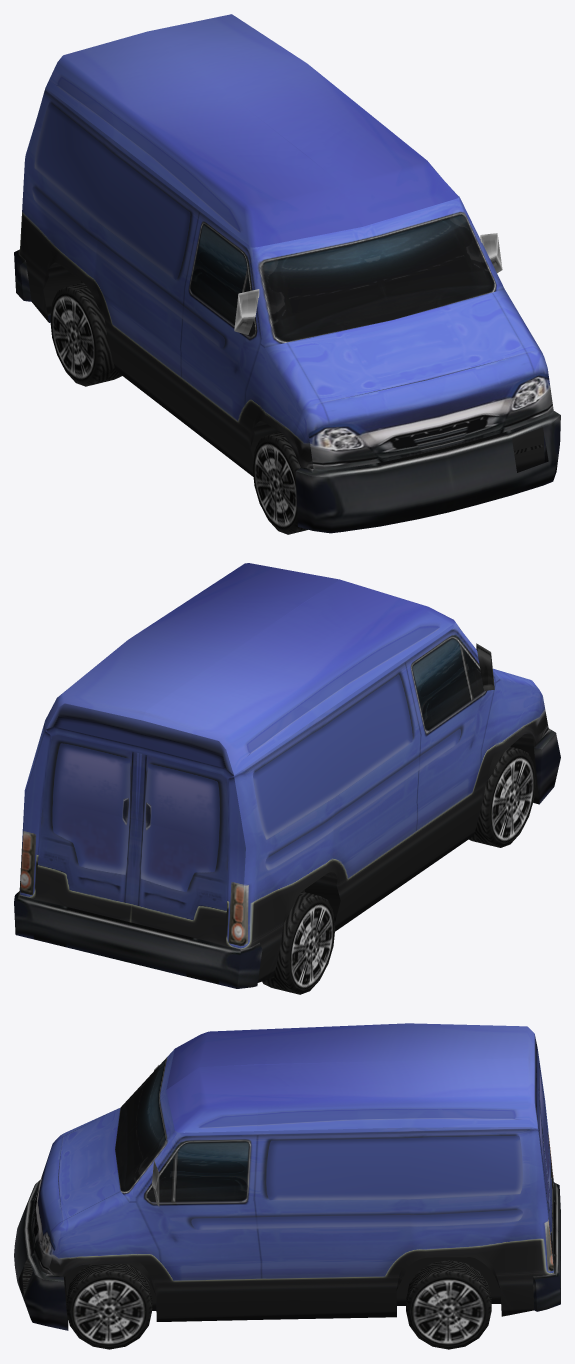
File: traf_veh6.fbx
The picture shows the model from 3 angles, top to bottom: view 1: azimuth 30°, elevation 25°; view 2: azimuth 150°, elevation 25°; view 3: azimuth 270°, elevation 25°; orthographic projection. The views are drawn at different scales.
Visible parts, largest first — view 1: traf_veh6; view 2: traf_veh6; view 3: traf_veh6.
Part boxes in pixels (x1=…): traf_veh6: x1=14, y1=14, x2=560, y2=534; traf_veh6: x1=14, y1=563, x2=560, y2=994; traf_veh6: x1=14, y1=1023, x2=560, y2=1349.
Size of the model in its own units: 2.49 by 2.56 by 5.23.
